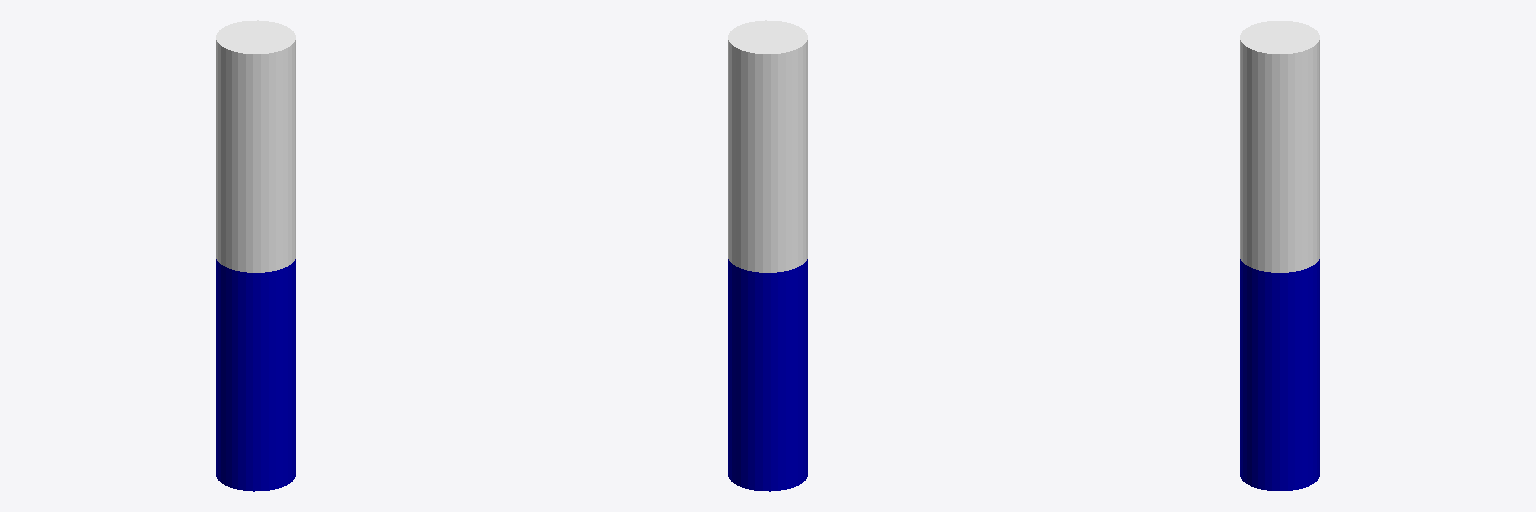
robot.urdf — simple_robot:
<?xml version="1.0"?>
	<robot name="simple_robot">	
		<material name="blue">
			<color rgba="0 0 0.8 1"/>
		</material>

		<material name="white">
			<color rgba="1 1 1 1"/>
		</material>

		<link name="base_link">
			<visual>
				<geometry>
					<cylinder length="0.6" radius="0.1"/>
				</geometry>
				<material name="blue"/>
			</visual>
			<collision>
				<geometry>
					<cylinder length="0.6" radius="0.1"/>
				</geometry>
			</collision>
			<inertial>
				<mass value="20"/>
				<inertia ixx="1.0" ixy="0.5" ixz="0.0" iyy="0.2" iyz="0.0" izz="0.4"/>
			</inertial>
		</link>

		<link name="second_link">
			<visual>
				<geometry>
					<cylinder length="0.6" radius="0.1"/>
				</geometry>
				<origin rpy="0 0 0"/>
				<material name="white"/>
			</visual>
			<collision>
				<geometry>
					<cylinder length="0.6" radius="0.1"/>
				</geometry>
			</collision>
			<inertial>
				<mass value="10"/>
				<inertia ixx="0.0" ixy="0.0" ixz="0.0" iyy="0.0" iyz="0.0" izz="0.0"/>
			</inertial>
		</link>

		<joint name="base_to_second" type="revolute">
			<axis xyz="0 1 0"/>
			<limit effort="1000.0" lower="0.0" upper="0.548" velocity="0.5"/>
			<origin rpy="0 0 0" xyz="0 0 0.6"/>
			<parent link="base_link"/>
			<child link="second_link"/>
		</joint>

</robot>

--- What the picture shows (computed from the rendered views, not written in the file) ---
3 views of the same robot in one strip: view 1: azimuth 30°, elevation 25°; view 2: azimuth 150°, elevation 25°; view 3: azimuth 270°, elevation 25° (orthographic).
Robot: simple_robot — 2 links, 1 joints (1 revolute); root link base_link; default pose: all joints at 0.
Links seen in each view (by area): view 1: second_link, base_link; view 2: second_link, base_link; view 3: second_link, base_link.
Link boxes in pixels (left/top/right/bottom): second_link: left=216, top=20, right=295, bottom=272; base_link: left=216, top=259, right=295, bottom=491; second_link: left=728, top=20, right=807, bottom=272; base_link: left=728, top=259, right=807, bottom=491; second_link: left=1240, top=21, right=1319, bottom=272; base_link: left=1240, top=259, right=1319, bottom=490.
Size in the robot's own frame: 0.2 by 0.2 by 1.2 metres.
Geometry: primitives only (box / cylinder / sphere), no mesh files.